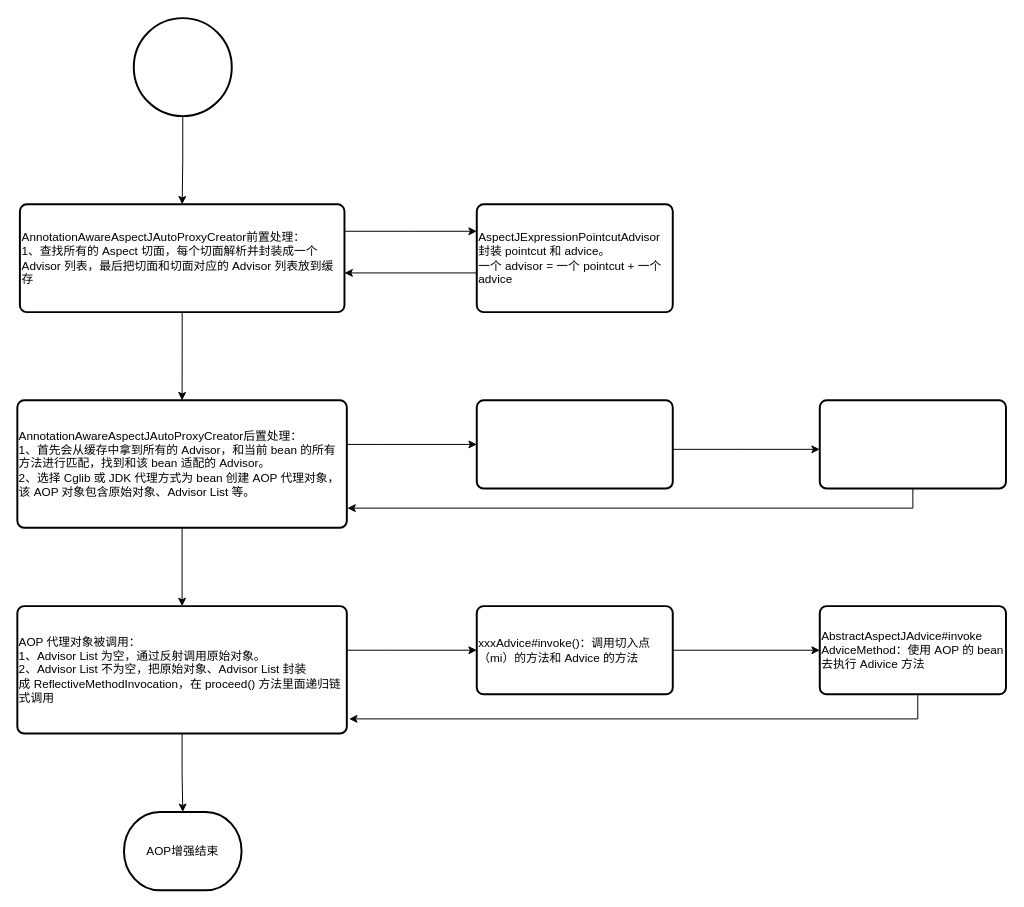
Some shapes in this 1024 by 907 pixel diagram are drawn without their labels. Each missing label, with the centre of its shape:
AOP增强开始: (x=182, y=67)
fcreateProxy()：使用 ProxyFactory 为当前 bean 和 Advisor List 创建代理对象: (x=912, y=444)
findEligibleAdvisors()：获取和当前 bean 适配的 Advisor List: (x=574, y=444)
